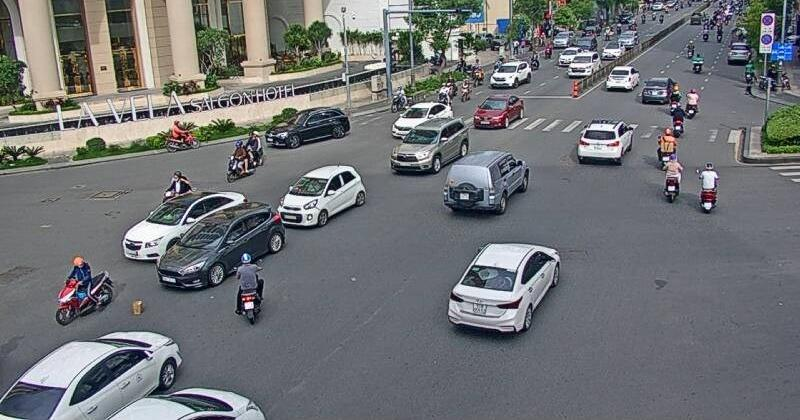xe hoi: (0, 330, 182, 420), (157, 201, 285, 288), (449, 242, 558, 331), (122, 190, 244, 260), (443, 150, 529, 215), (278, 165, 367, 226), (390, 117, 468, 173), (264, 105, 350, 148), (577, 119, 632, 159), (392, 102, 453, 138), (473, 93, 524, 127)
xe may: (55, 256, 113, 327), (235, 251, 264, 325), (225, 140, 256, 183), (165, 120, 200, 152), (697, 161, 718, 214), (661, 153, 682, 204), (656, 127, 677, 167), (671, 101, 684, 134)
